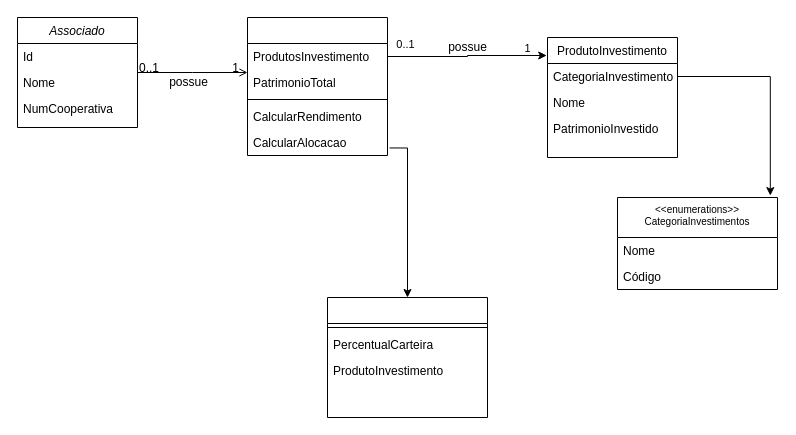
The diagram is 796 pixels wide and 435 high, and some of its shapes have lost their labels. The shapes that lost their labels are listed below. From the top down, each one's box as (x1, y1, x2, y2) in pixels, then its label:
(246, 16, 388, 156): CarteiraInvestimento
(326, 296, 488, 418): AlocacaoInvestimentos
